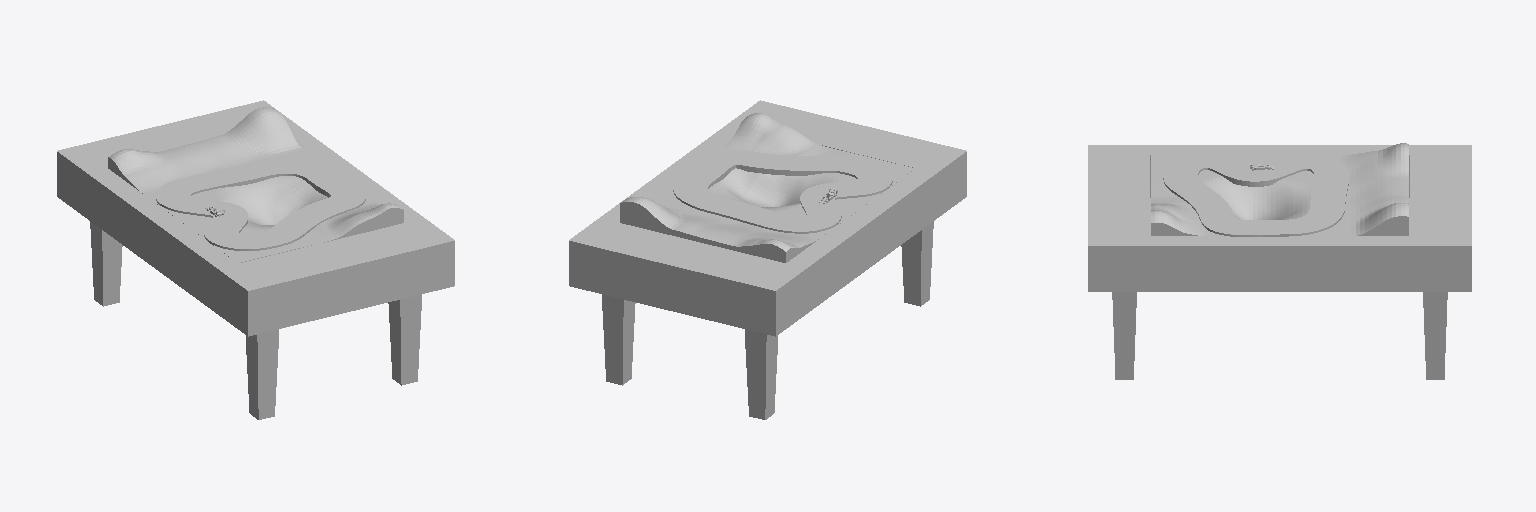
File: NewestTisch77.obj
3 renders of one model, left to right at view 1: azimuth 30°, elevation 25°; view 2: azimuth 150°, elevation 25°; view 3: azimuth 270°, elevation 25°, orthographic.
Parts seen in each view (by area): view 1: Tischplatte_wood_table_001, Landschaft_aerial_grass_rock, off, Bein1_wood_table_001, Bein4_wood_table_001.003, Bein3_wood_table_001.002; view 2: Tischplatte_wood_table_001, Landschaft_aerial_grass_rock, off, Bein2_wood_table_001.001, Bein3_wood_table_001.002, Bein4_wood_table_001.003; view 3: Tischplatte_wood_table_001, Landschaft_aerial_grass_rock, off, Bein1_wood_table_001, Bein2_wood_table_001.001.
Part boxes in pixels (left/top/right/bottom): Tischplatte_wood_table_001: left=57, top=100, right=454, bottom=336; Landschaft_aerial_grass_rock: left=108, top=107, right=403, bottom=262; off: left=156, top=159, right=365, bottom=250; Bein1_wood_table_001: left=388, top=294, right=421, bottom=385; Bein4_wood_table_001.003: left=246, top=329, right=278, bottom=419; Bein3_wood_table_001.002: left=90, top=221, right=122, bottom=306; Tischplatte_wood_table_001: left=569, top=100, right=966, bottom=336; Landschaft_aerial_grass_rock: left=620, top=113, right=915, bottom=262; off: left=673, top=150, right=892, bottom=233; Bein2_wood_table_001.001: left=602, top=294, right=635, bottom=385; Bein3_wood_table_001.002: left=745, top=329, right=777, bottom=419; Bein4_wood_table_001.003: left=901, top=221, right=933, bottom=306; Tischplatte_wood_table_001: left=1088, top=145, right=1471, bottom=291; Landschaft_aerial_grass_rock: left=1151, top=143, right=1408, bottom=235; off: left=1163, top=153, right=1348, bottom=236; Bein1_wood_table_001: left=1112, top=292, right=1136, bottom=379; Bein2_wood_table_001.001: left=1423, top=292, right=1447, bottom=379.
Bounding box in the file's own units: 5 × 3.91 × 8.